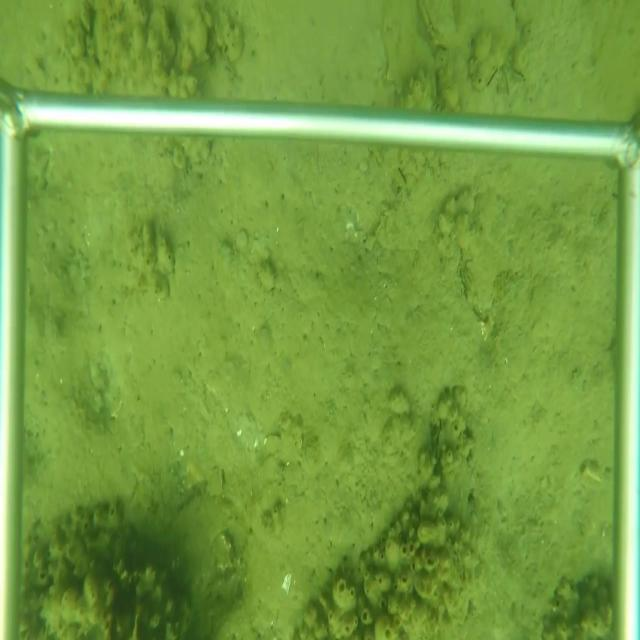Oyster-Closed: (417, 3, 457, 52), (430, 405, 447, 468)
